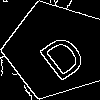D: (30, 25, 90, 83)
